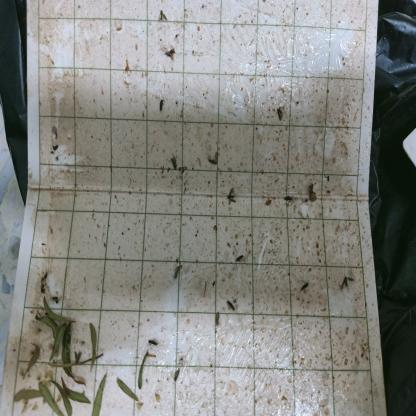prays_oleae: (339, 270, 354, 297), (234, 239, 244, 274), (206, 154, 223, 173), (224, 185, 236, 211), (225, 296, 240, 316), (164, 51, 180, 66), (170, 151, 178, 180), (299, 276, 310, 297), (156, 7, 167, 22), (276, 108, 284, 127)
